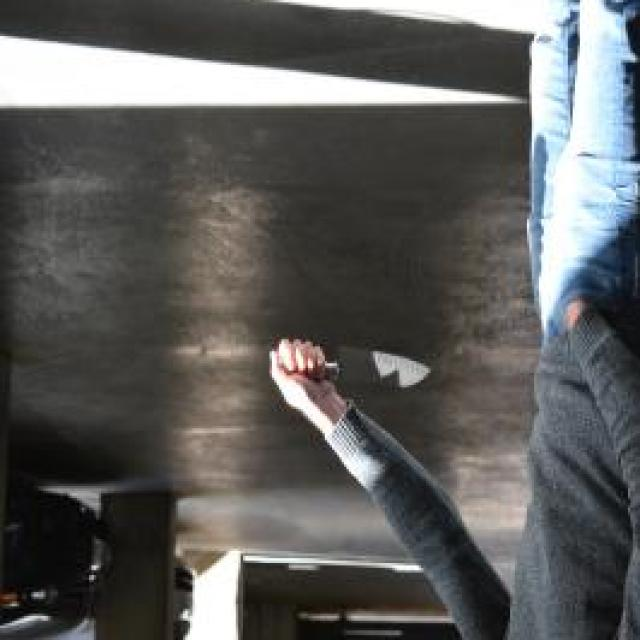knife: (276, 336, 436, 402)
